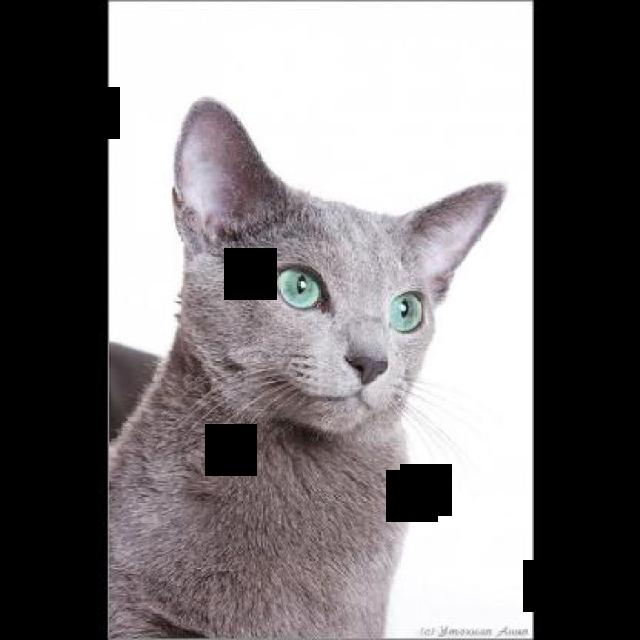unauthorized: (106, 94, 506, 638)
